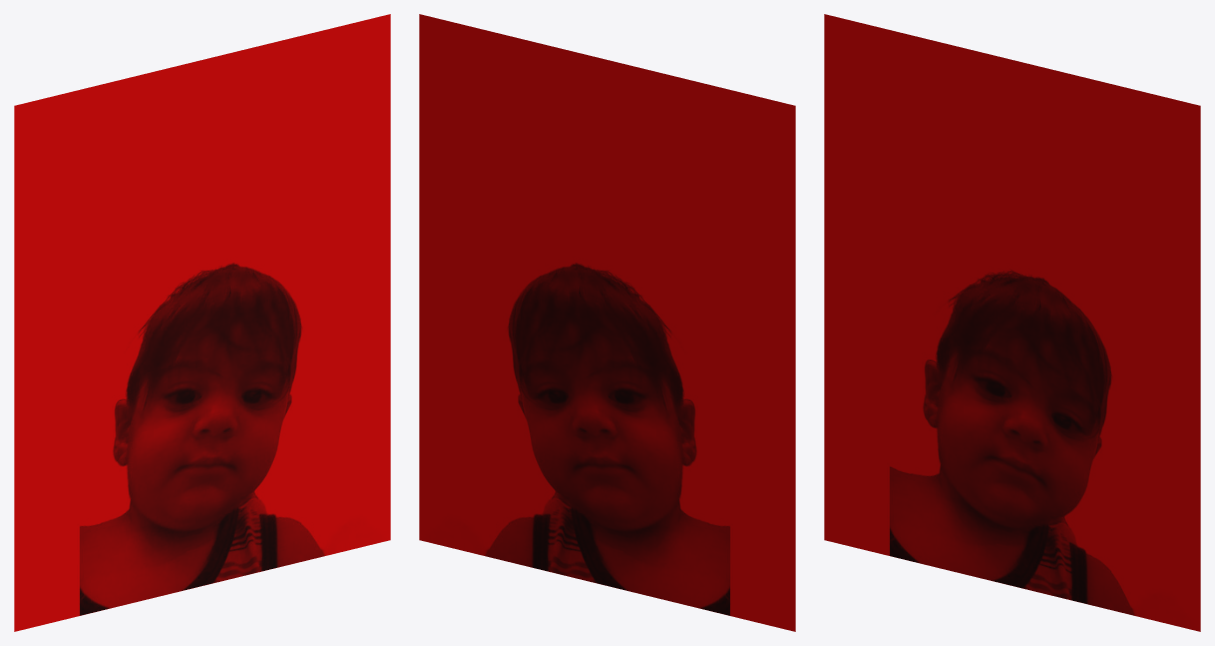
The model's file is jil.glb.
3 views of the same model, side by side, from view 1: azimuth 30°, elevation 25°; view 2: azimuth 150°, elevation 25°; view 3: azimuth 330°, elevation 25° (orthographic).
Parts seen in each view (by area): view 1: Layer 1 Mesh; view 2: Layer 1 Mesh; view 3: Layer 1 Mesh.
Boxes of the visible parts, x1=… form: Layer 1 Mesh: x1=14, y1=14, x2=390, y2=631; Layer 1 Mesh: x1=419, y1=14, x2=795, y2=631; Layer 1 Mesh: x1=824, y1=14, x2=1200, y2=631.
Bounding box in the file's own units: 0.7487 × 1 × 0.
1 material, 1 textured.
